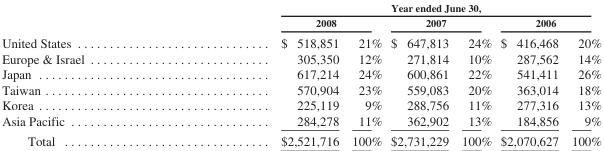table: (1, 1, 601, 148)
table column: (1, 1, 181, 148), (181, 1, 344, 148), (385, 1, 454, 148), (495, 1, 564, 148), (344, 1, 385, 148), (454, 1, 495, 148), (564, 1, 601, 148)
table column header: (1, 1, 601, 50)
table row: (1, 31, 601, 50), (1, 112, 601, 130), (1, 130, 601, 148), (1, 14, 601, 31), (1, 65, 601, 81), (1, 96, 601, 112), (1, 50, 601, 65), (1, 81, 601, 96), (1, 1, 601, 14)
table spanning cell: (1, 1, 181, 50), (181, 1, 601, 14), (181, 14, 385, 31), (385, 14, 495, 31), (495, 14, 601, 31)
